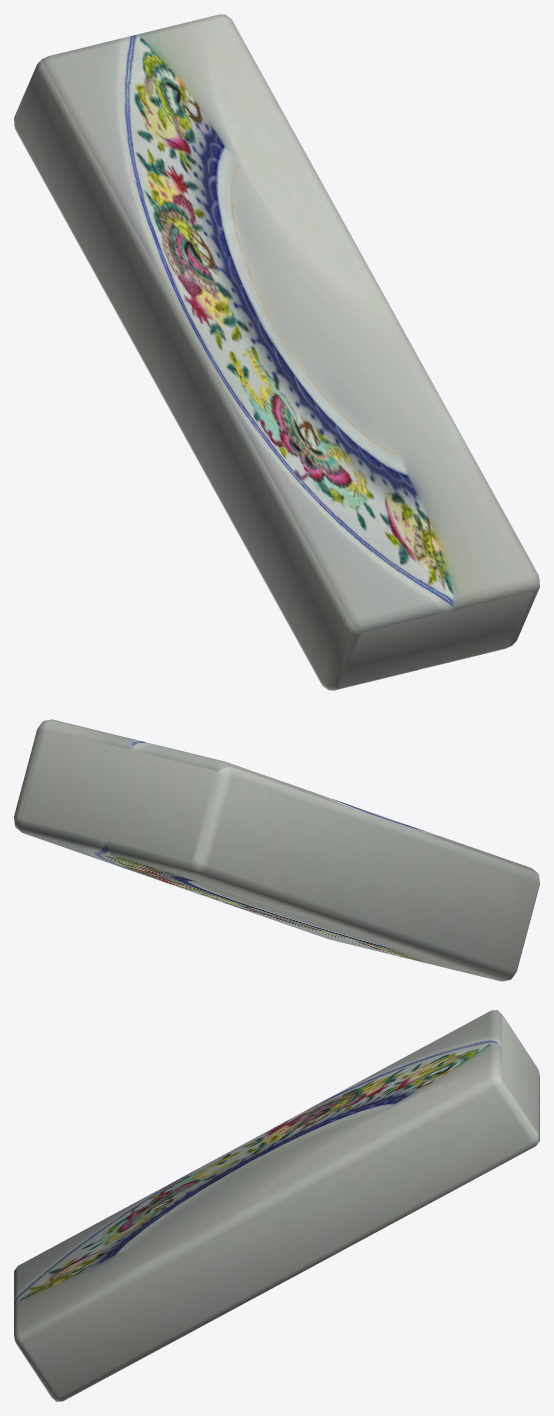
Rendered from ref_chewinggum.fbx.
The picture shows the model from 3 angles, top to bottom: view 1: azimuth 30°, elevation 25°; view 2: azimuth 150°, elevation 25°; view 3: azimuth 270°, elevation 25°; orthographic projection. The views are drawn at different scales.
Visible parts, largest first — view 1: ref_chewinggum; view 2: ref_chewinggum; view 3: ref_chewinggum.
Boxes of the visible parts, x1=… form: ref_chewinggum: x1=14, y1=14, x2=539, y2=690; ref_chewinggum: x1=14, y1=719, x2=539, y2=981; ref_chewinggum: x1=14, y1=1010, x2=539, y2=1401.
Size of the model in its own units: 32.81 by 68.51 by 100.
